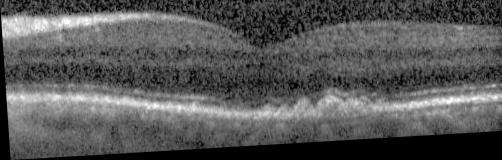retinal_drusen: (317, 104, 341, 129), (293, 103, 313, 123), (258, 106, 272, 124), (344, 104, 357, 118), (276, 110, 291, 122), (358, 103, 370, 117)
